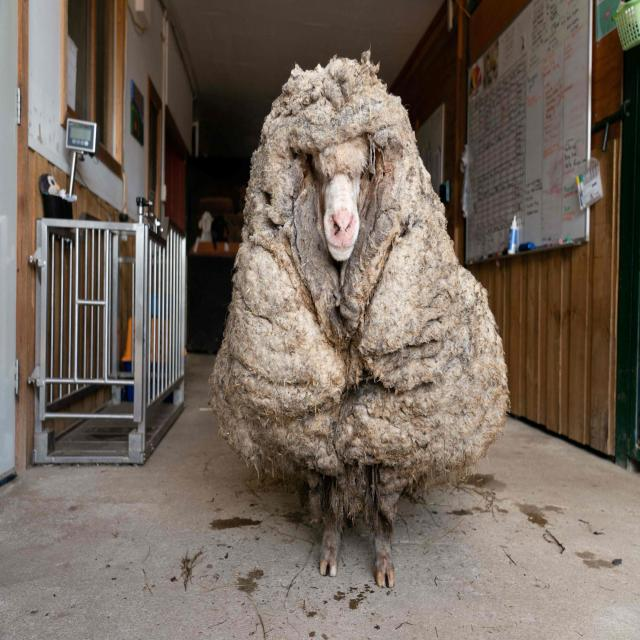Sheep: (206, 46, 512, 594)
